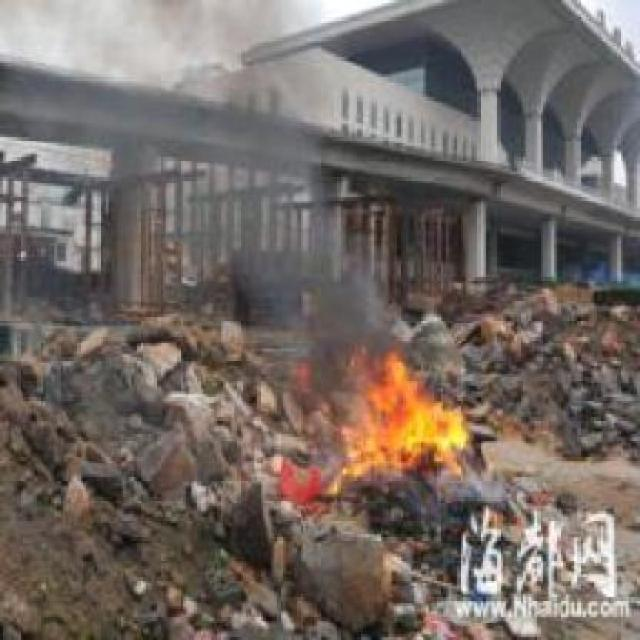Fire: (325, 346, 469, 500)
Smoke: (0, 0, 396, 344)
